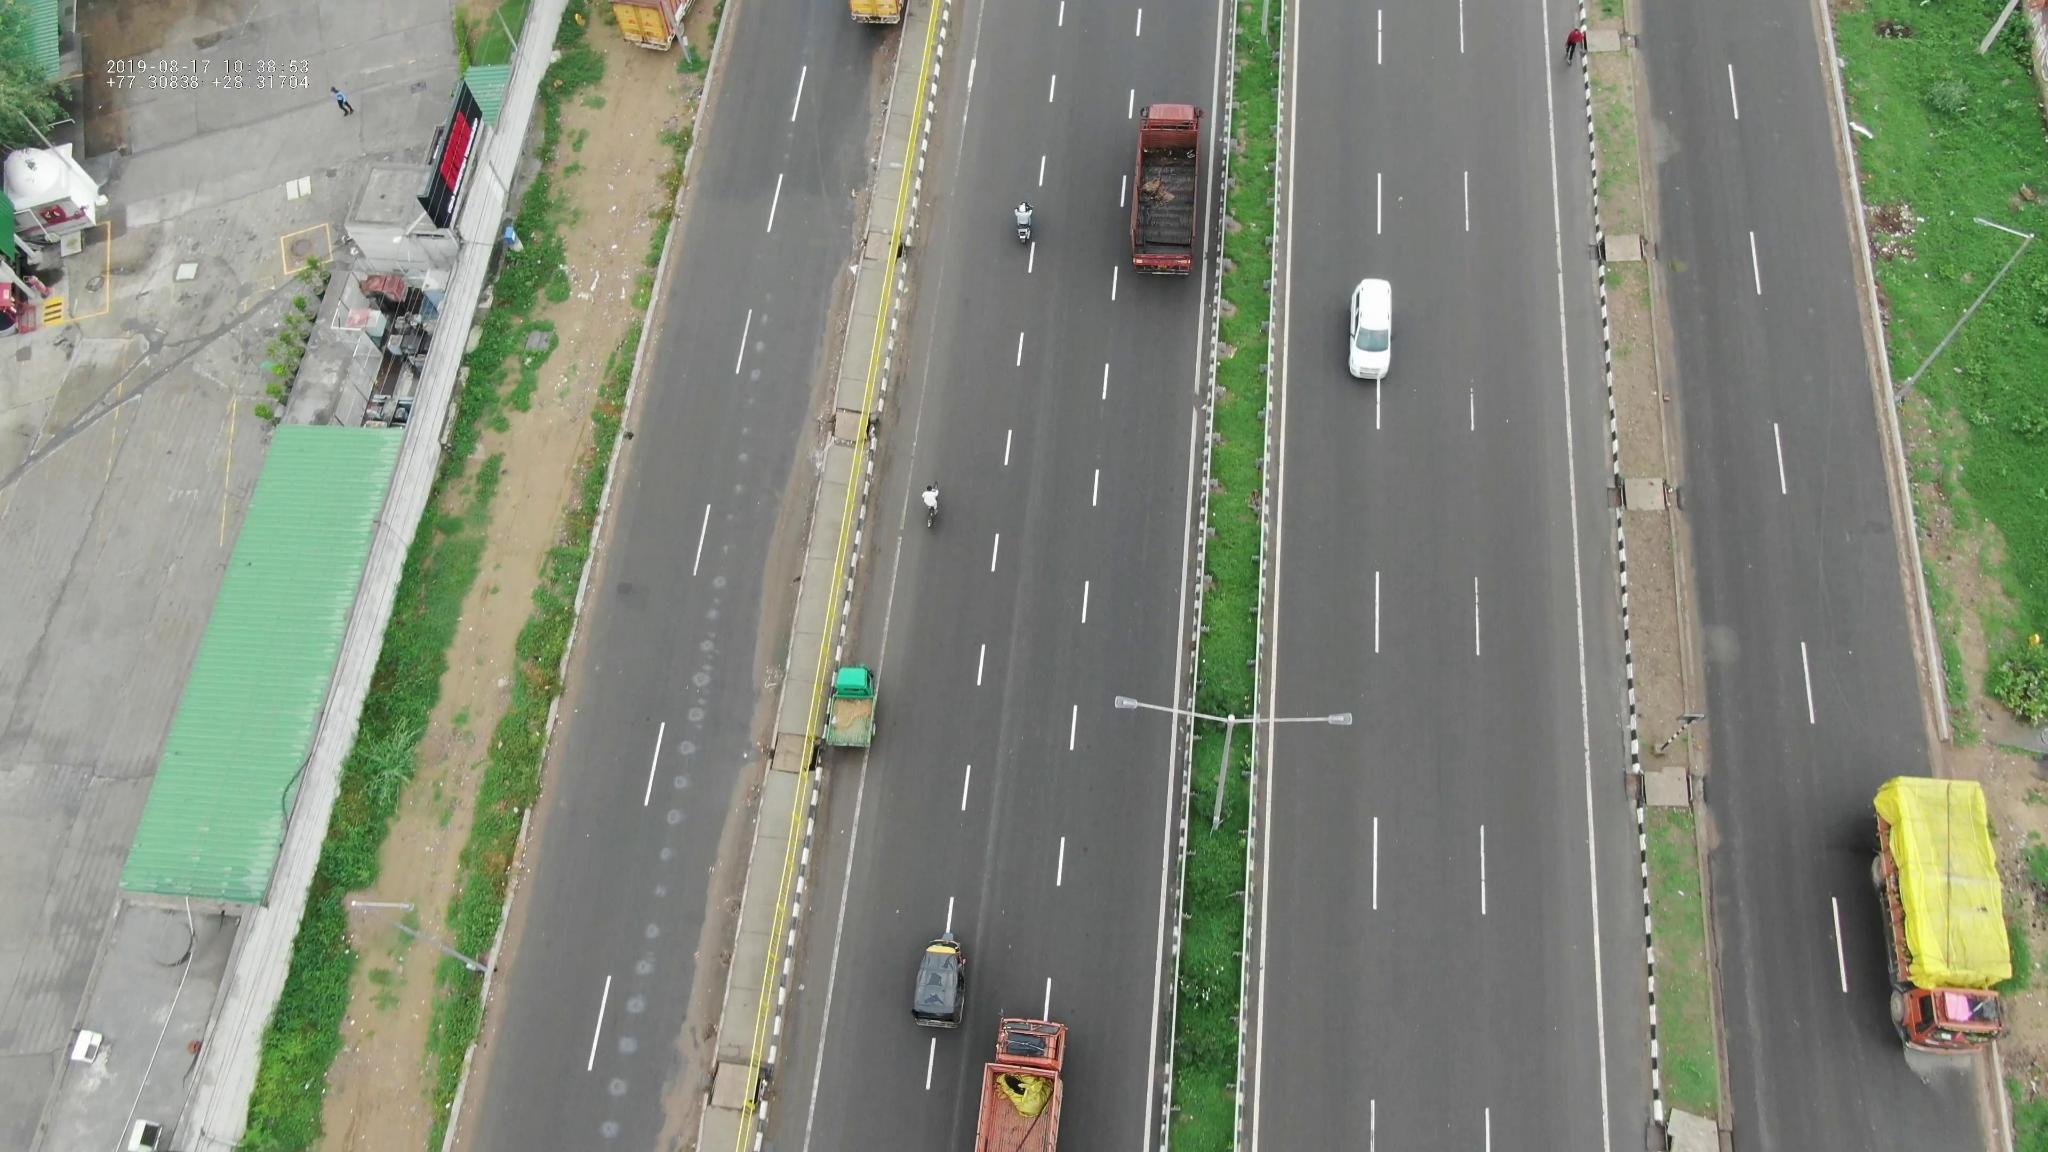Potholes: (715, 401, 771, 551), (629, 793, 700, 900), (587, 1023, 657, 1131), (684, 563, 740, 689), (620, 913, 677, 1018), (660, 698, 715, 802), (736, 283, 785, 381)
